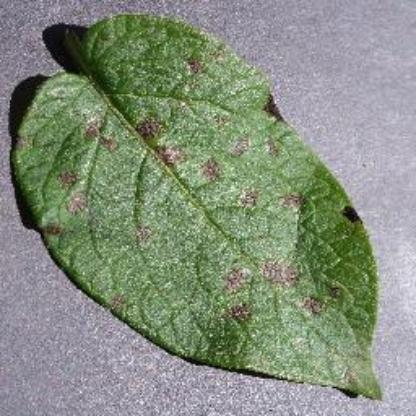Early-Blight: (13, 11, 391, 401)
